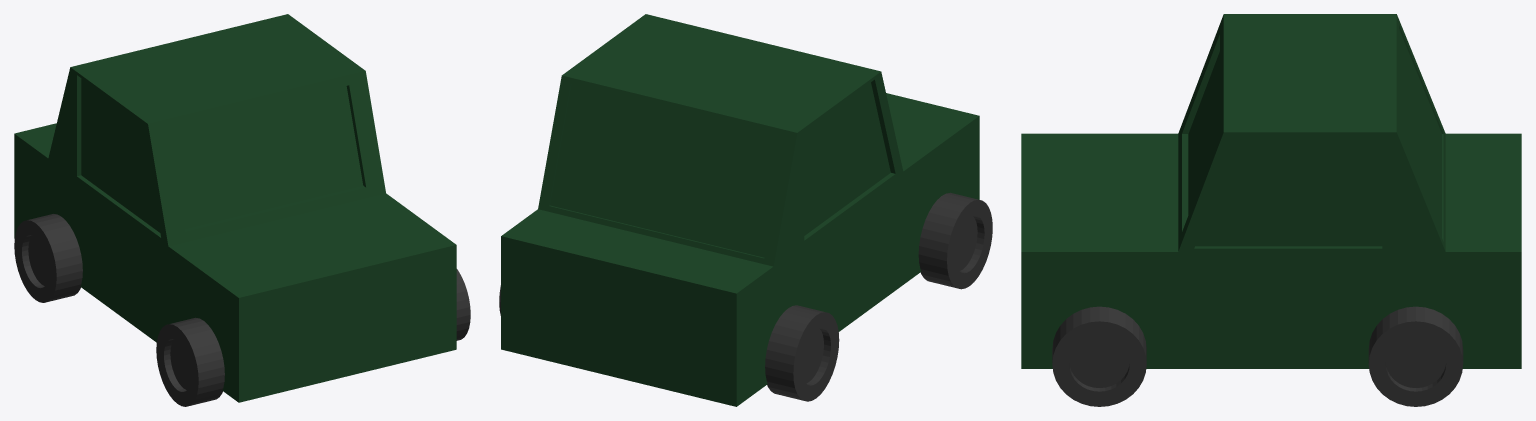
The model's file is simple_car.fbx.
3 renders of one model, left to right at view 1: azimuth 30°, elevation 25°; view 2: azimuth 150°, elevation 25°; view 3: azimuth 270°, elevation 25°, orthographic. The views are drawn at different scales.
Visible parts, largest first — view 1: Cube, Cylinder.002, Cylinder.001; view 2: Cube, Cylinder.001, Cylinder.002; view 3: Cube, Cylinder.001, Cylinder.002.
Part boxes in pixels (x1,y1,x2,y2): Cube: [14, 14, 456, 402]; Cylinder.002: [156, 269, 470, 406]; Cylinder.001: [14, 214, 82, 302]; Cube: [501, 14, 979, 406]; Cylinder.001: [499, 285, 839, 401]; Cylinder.002: [918, 192, 992, 289]; Cube: [1021, 14, 1521, 368]; Cylinder.001: [1368, 306, 1463, 406]; Cylinder.002: [1052, 306, 1146, 406].
Bounding box in the file's own units: 329 × 269 × 471.
